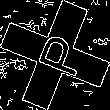P_W: (25, 28, 85, 82)
